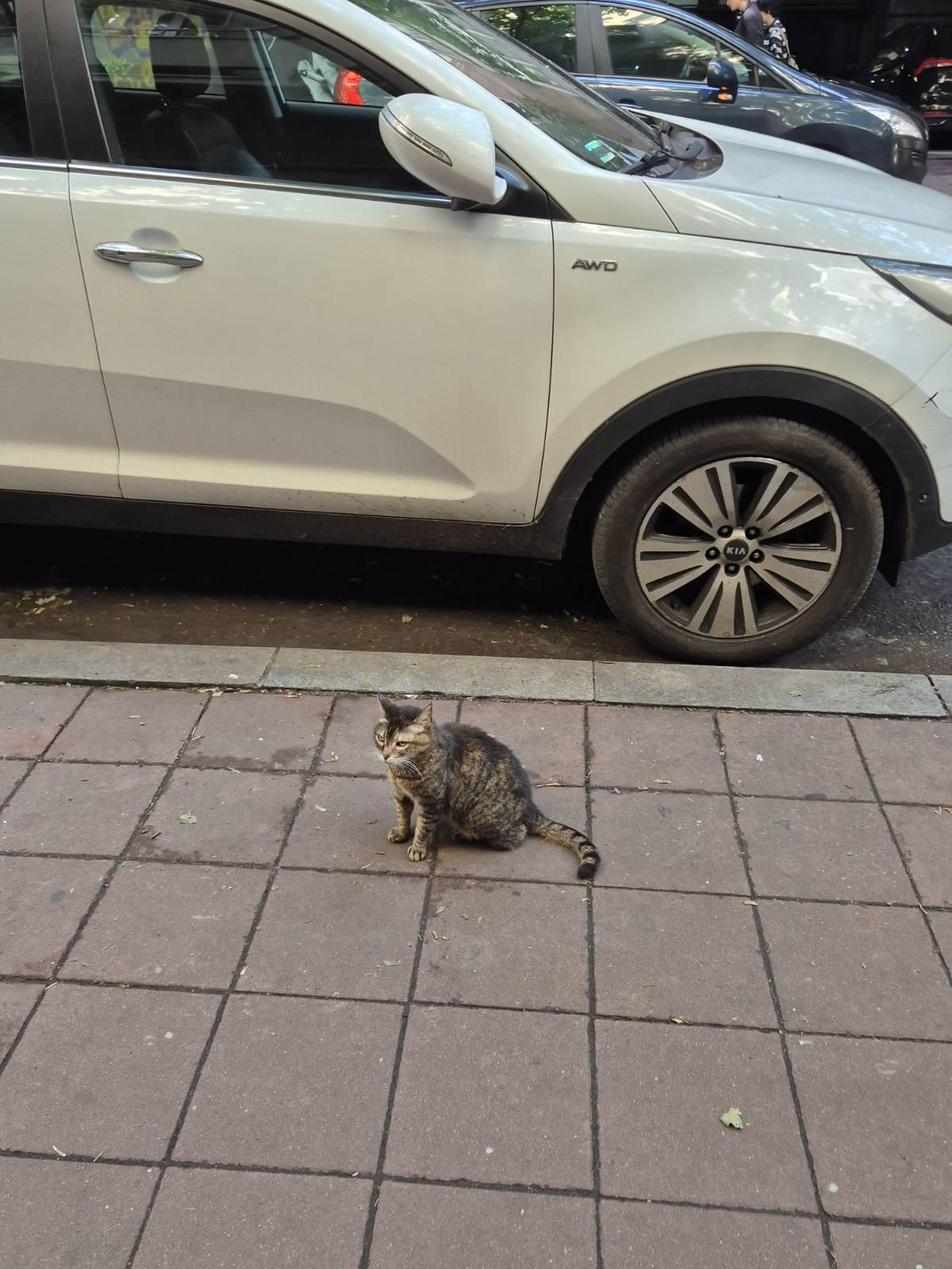macka: (373, 693, 600, 880)
